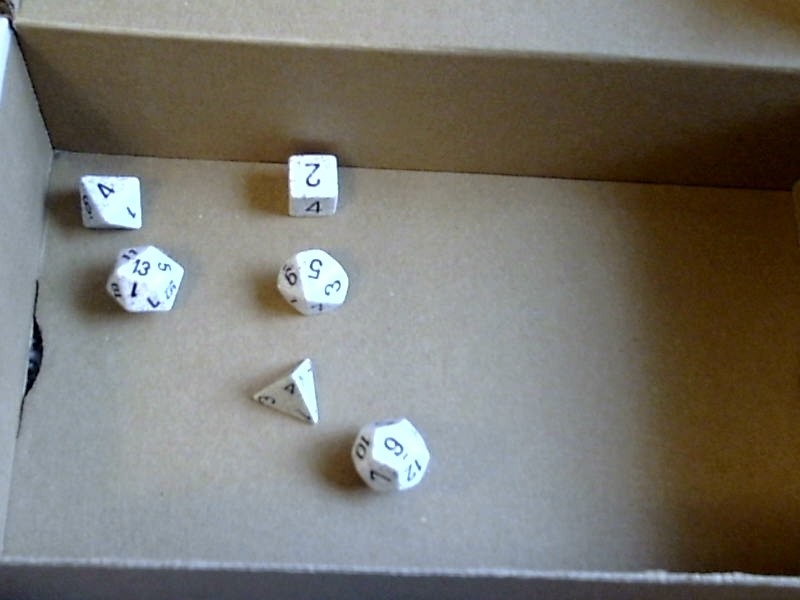d10 5: (270, 245, 357, 320)
d12 9: (342, 409, 437, 499)
d20 13: (97, 243, 187, 317)
d4 4: (244, 351, 322, 434)
d6 2: (276, 146, 344, 225)
d8 4: (71, 168, 146, 234)
